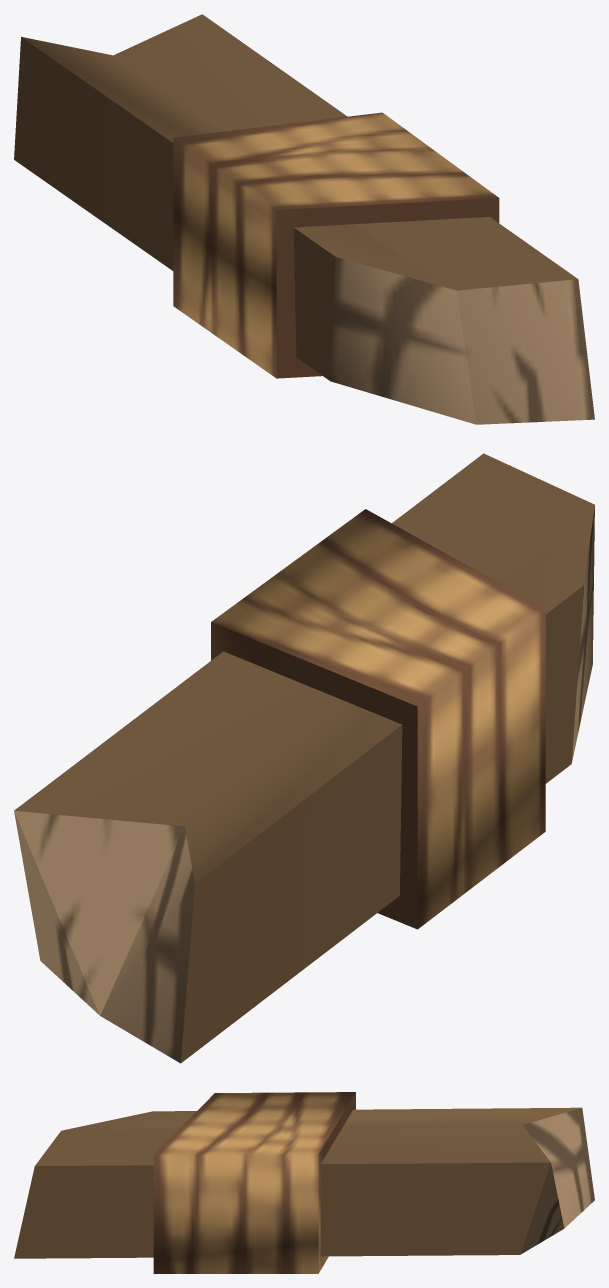
Rendered from FX_wreck_A.glb.
The picture shows the model from 3 angles, top to bottom: view 1: azimuth 30°, elevation 25°; view 2: azimuth 150°, elevation 25°; view 3: azimuth 270°, elevation 25°; orthographic projection. The views are drawn at different scales.
Visible parts, largest first — view 1: FX_wreck_A; view 2: FX_wreck_A; view 3: FX_wreck_A.
Boxes of the visible parts, bbox=[...] form: FX_wreck_A: bbox=[14, 14, 594, 424]; FX_wreck_A: bbox=[14, 453, 594, 1063]; FX_wreck_A: bbox=[14, 1092, 594, 1273].
Bounding box in the file's own units: 0.412 × 0.3634 × 1.61.
1 material, 1 textured.
